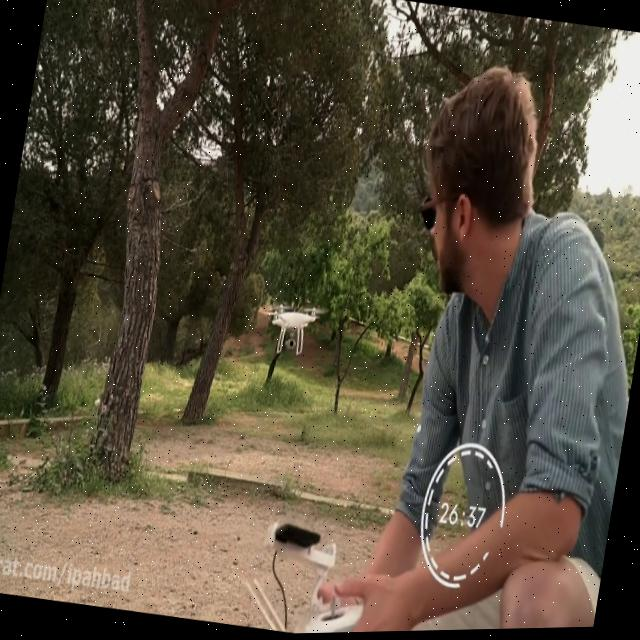drone: (258, 296, 330, 362)
